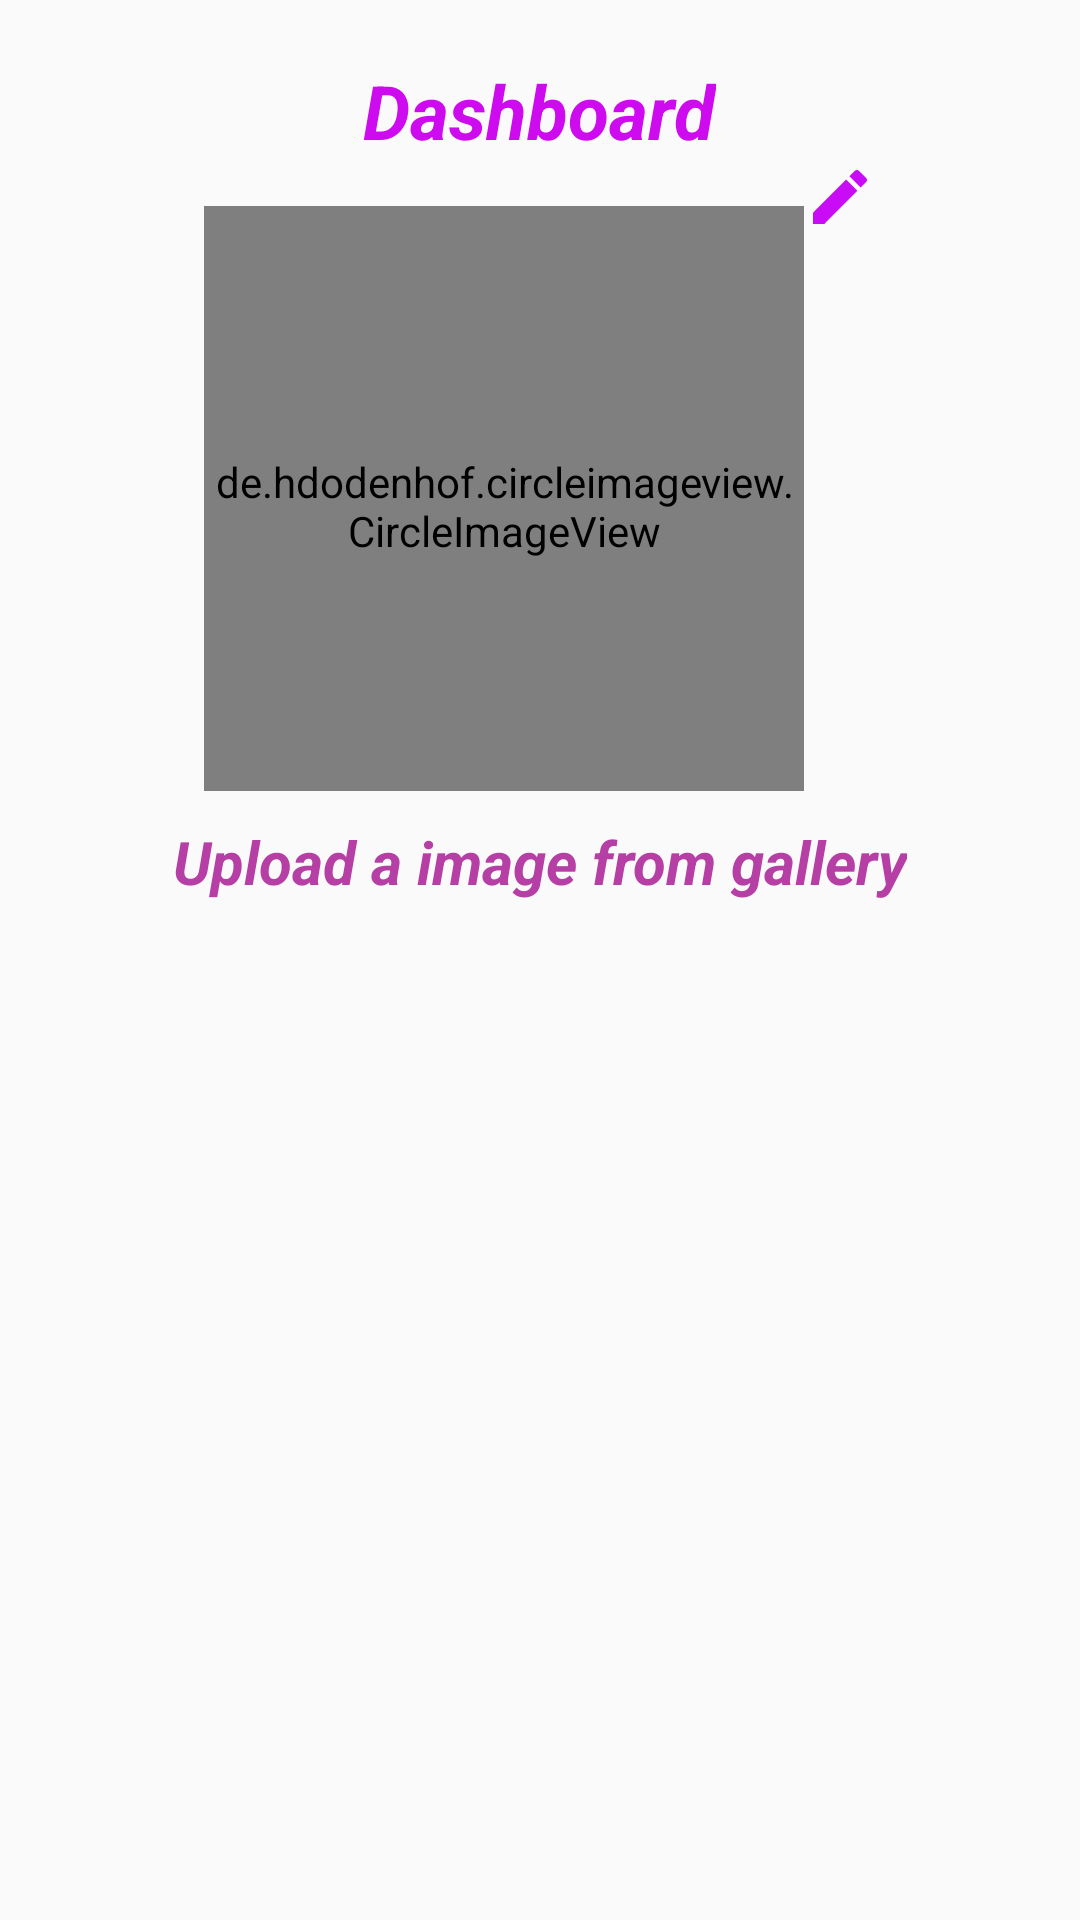

Screen size 1080w x 1920h. Icon name, then its box in pixels as (x1, y1, x2, y2):
edit: (813, 170, 867, 224)
